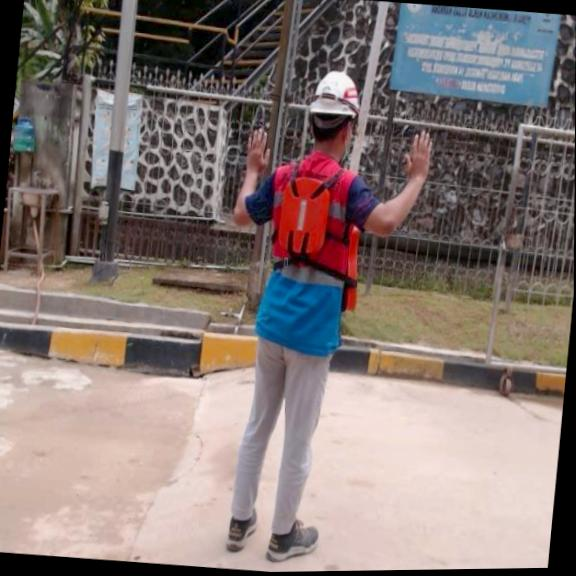safety_vest: (270, 168, 339, 261)
